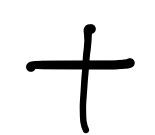plus: (26, 24, 135, 133)
